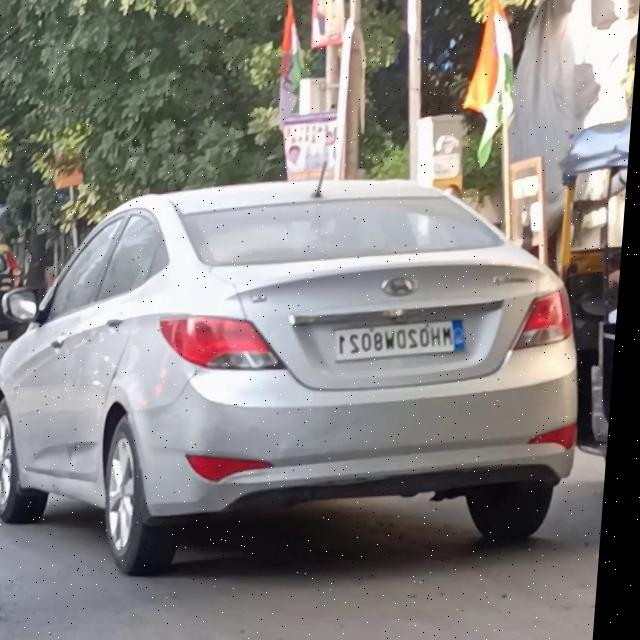plate: (337, 318, 474, 366)
